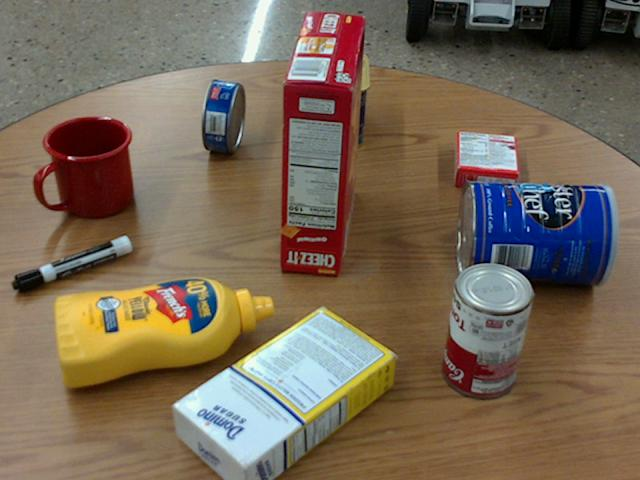cracker_box: (282, 10, 367, 272)
gelatin_box: (454, 129, 518, 190)
large_marker: (12, 234, 131, 291)
master_chef_can: (457, 178, 619, 283)
mug: (37, 116, 133, 218)
mustard_bottle: (54, 275, 273, 388)
potted_meat_can: (322, 51, 369, 147)
sugar_box: (170, 306, 394, 479)
tomato_soup_can: (444, 260, 534, 396)
tuna_fish_can: (200, 78, 245, 152)
